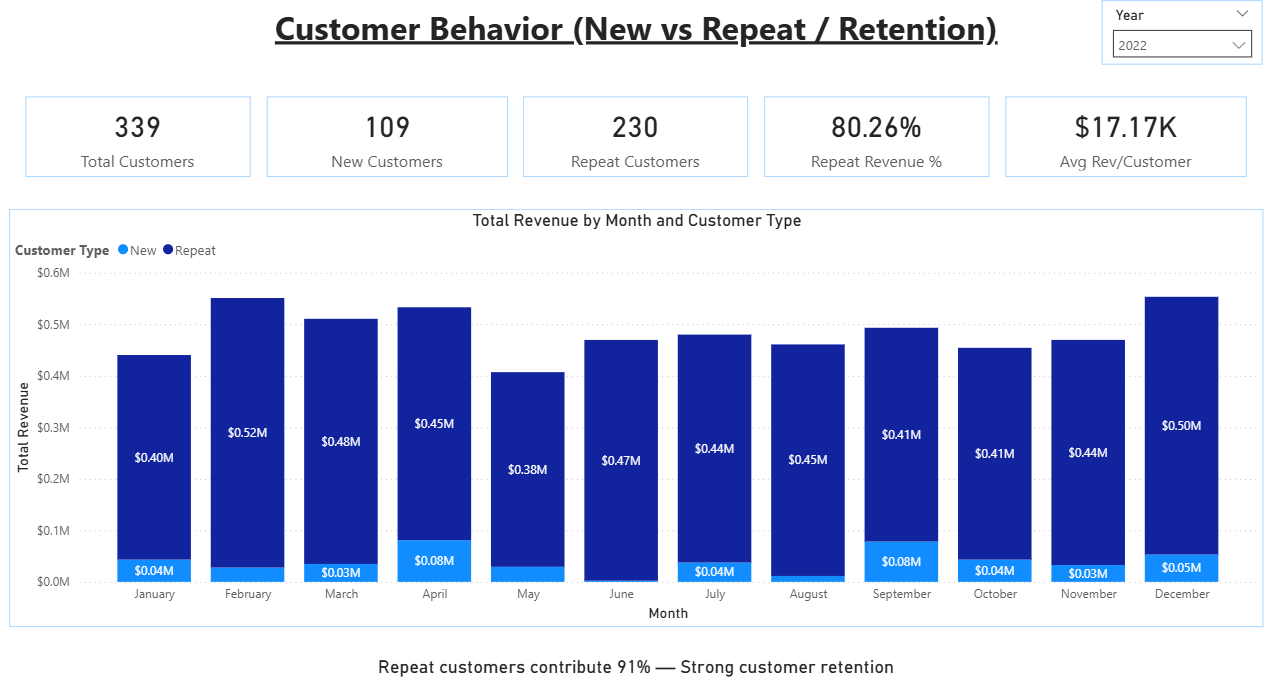

The dashboard page shown, as its layout file describes it:
{"tool":"powerbi","page":{"name":"Customer Behavior","canvas":[1280,720],"ordinal":3},"visuals":[{"type":"textbox","box":[240,16,800,64],"z":0},{"type":"card","title":"Revenue","fields":{"Values":["Customer Behavior.Total Customers"]},"box":[32,112,224,80],"z":1000},{"type":"slicer","fields":{"Values":["Date.Year"]},"box":[1104,16,160,64],"z":2000},{"type":"columnChart","fields":{"Category":["Date.Full Date.Variation.Date Hierarchy.Year","Date.Full Date.Variation.Date Hierarchy.Month"],"Y":["Executive Summary Measures.Total Revenue"],"Series":["Orders.Customer Type"]},"box":[16,224,1248,416],"z":3000},{"type":"card","fields":{"Values":["Customer Behavior.Customer Behavior Insight"]},"box":[16,656,1248,48],"z":4000},{"type":"card","title":"Revenue","fields":{"Values":["Customer Behavior.New Customers"]},"box":[272,112,240,80],"z":5000},{"type":"card","title":"Revenue","fields":{"Values":["Customer Behavior.Repeat Customers"]},"box":[528,112,224,80],"z":6000},{"type":"card","title":"Revenue","fields":{"Values":["Customer Behavior.Repeat Revenue %"]},"box":[768,112,224,80],"z":7000},{"type":"card","title":"Revenue","fields":{"Values":["Customer Behavior.Avg Revenue per Customer"]},"box":[1008,112,240,80],"z":8000}]}

Visuals, with their boxes on the page's 1280x720 design canvas (x1, y1, x2, y2). These are canvas units, not pixel positions in the 1272x693 screenshot, which may show the page scaled, cropped or inside an application window:
textbox: box=[240, 16, 1040, 80]
"Revenue" card: box=[32, 112, 256, 192]
slicer - Date.Year: box=[1104, 16, 1264, 80]
columnChart - Date.Full Date.Variation.Date Hierarchy.Year x Date.Full Date.Variation.Date Hierarchy.Month: box=[16, 224, 1264, 640]
card - Customer Behavior.Customer Behavior Insight: box=[16, 656, 1264, 704]
"Revenue" card: box=[272, 112, 512, 192]
"Revenue" card: box=[528, 112, 752, 192]
"Revenue" card: box=[768, 112, 992, 192]
"Revenue" card: box=[1008, 112, 1248, 192]
